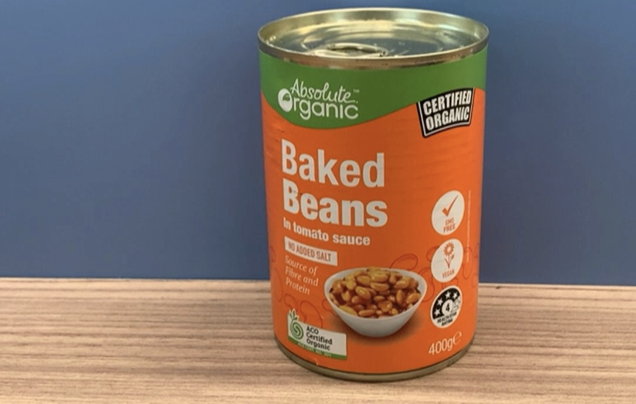Baked beans_400-499g: (272, 81, 474, 358)
